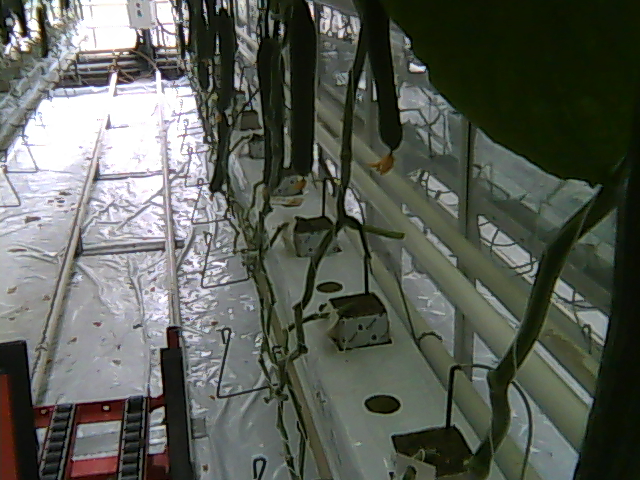concombre: (567, 136, 640, 480), (360, 1, 407, 173)
